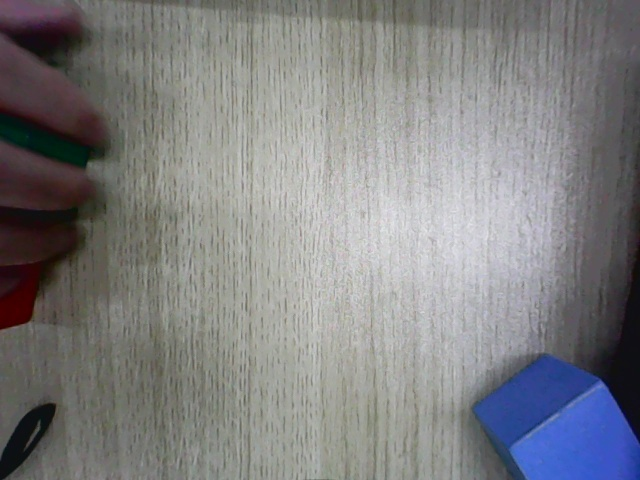upside of big cube: (508, 383, 639, 479)
